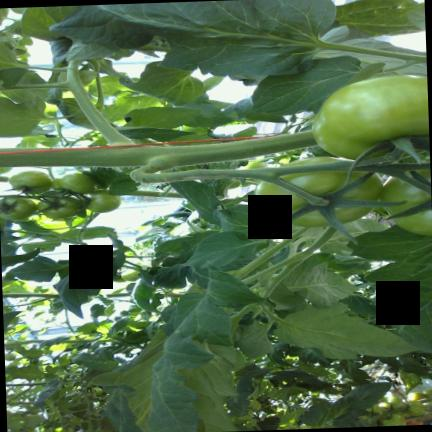6kp_peduncle: (92, 143, 228, 181)
6kp_petiole: (54, 86, 250, 166), (24, 292, 60, 304)
MainStem: (0, 130, 318, 166), (125, 190, 183, 197)
tomato: (313, 74, 429, 159), (255, 156, 382, 226), (380, 170, 432, 235), (8, 170, 51, 193), (37, 197, 82, 218), (52, 173, 97, 193), (0, 196, 36, 219), (87, 189, 121, 212), (382, 413, 406, 426), (407, 400, 426, 415), (121, 270, 139, 281), (244, 160, 266, 168), (365, 408, 383, 417), (407, 391, 424, 400), (387, 396, 401, 403), (92, 387, 104, 395), (377, 401, 391, 407), (5, 352, 15, 360), (423, 389, 432, 397)
